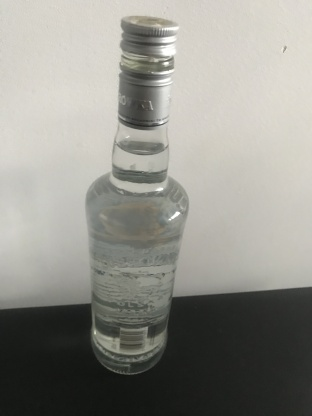nakretka: (116, 13, 180, 130)
